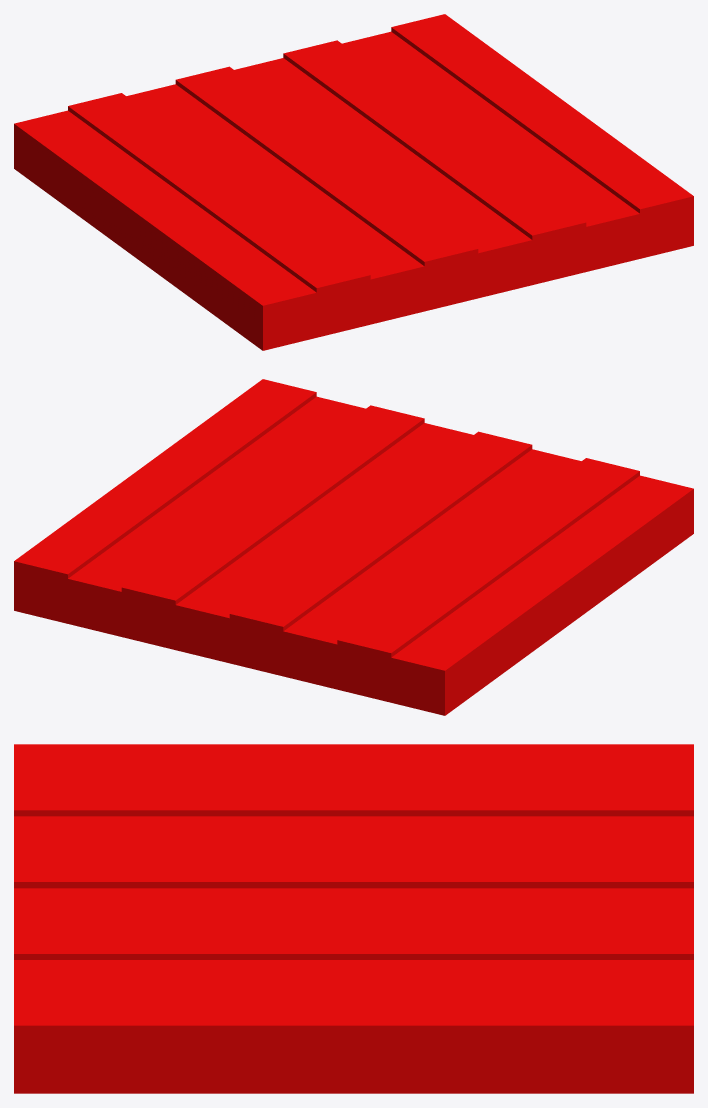
The model's file is stripeFloor.obj.
3 views of the same model, one above another, from view 1: azimuth 30°, elevation 25°; view 2: azimuth 150°, elevation 25°; view 3: azimuth 270°, elevation 25° (orthographic). The views are drawn at different scales.
Visible parts, largest first — view 1: Cube.001; view 2: Cube.001; view 3: Cube.001.
Part boxes in pixels (left/top/right/bottom): Cube.001: left=14, top=14, right=693, bottom=350; Cube.001: left=14, top=379, right=693, bottom=715; Cube.001: left=14, top=744, right=693, bottom=1093.
Size of the model in its own units: 1 by 0.1099 by 1.
